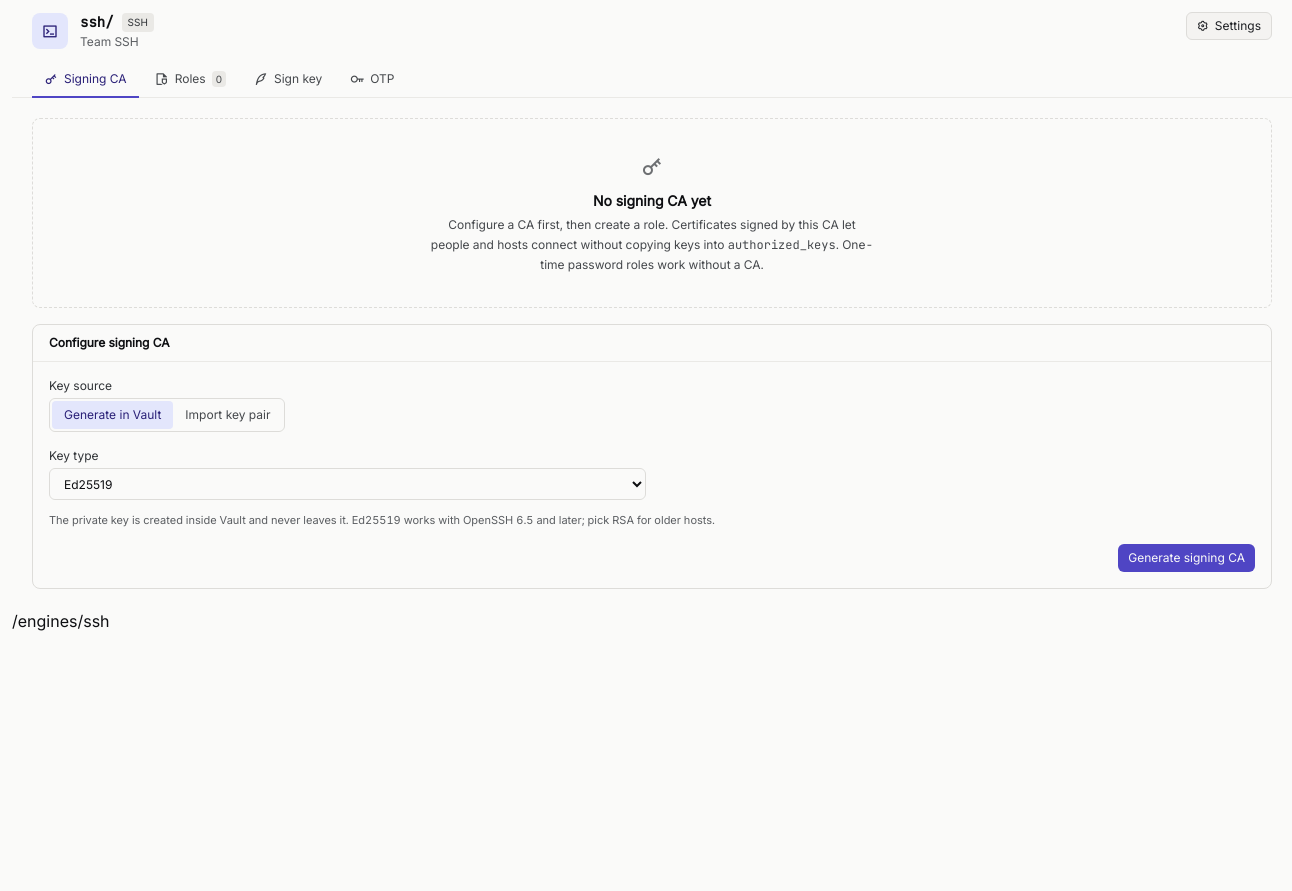
Scenario: SshEnginePage › explains the empty CA and generates one in Vault
Expected: the heading "No signing CA yet" is shown, [593,191,711,211]
Click the button "Generate signing CA".
click(1187, 558)  # box [1118,544,1255,572]
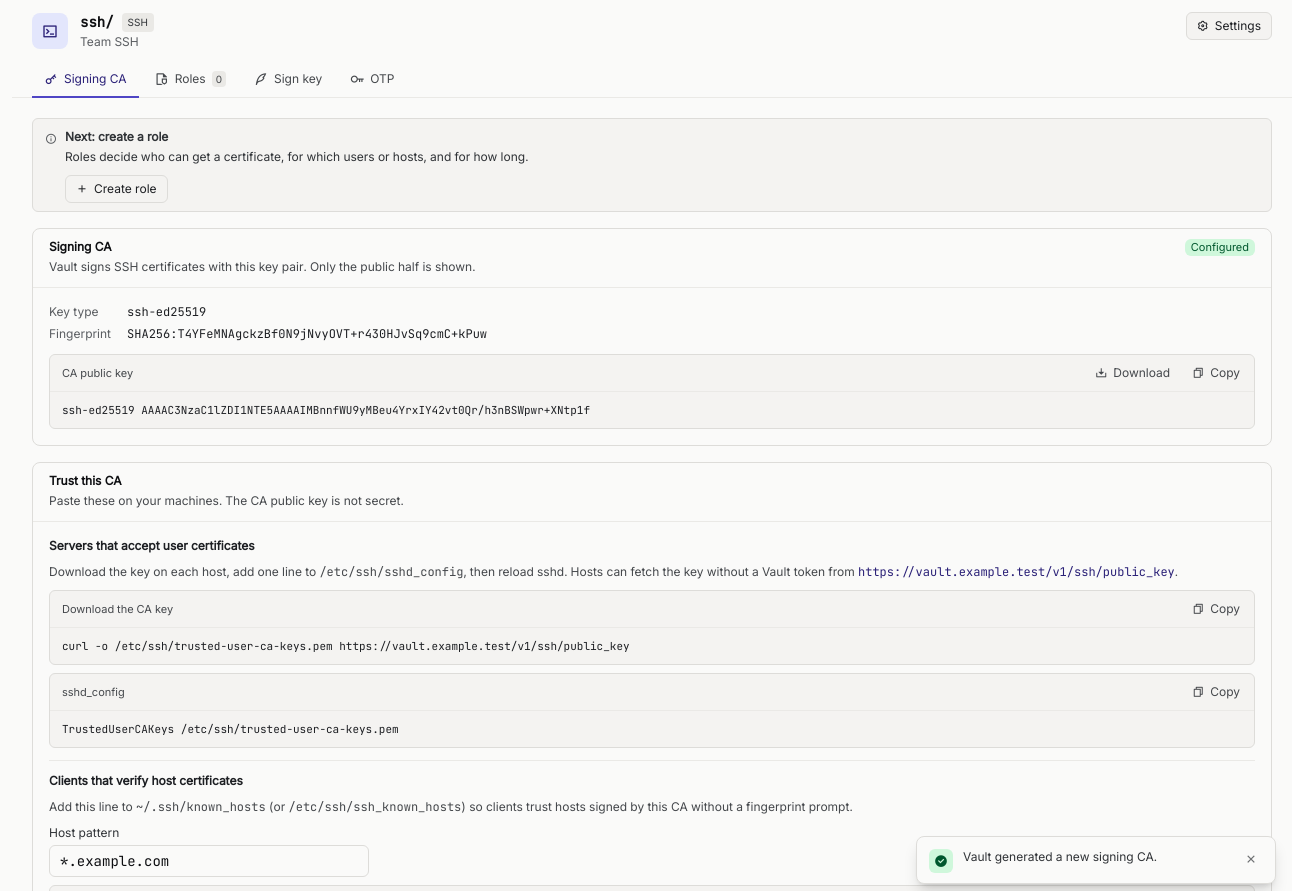
Now the text "Vault generated a new signing CA." is shown, box [963,849,1157,864]
Now the text "Next: create a role" is shown, box [65,129,168,144]
